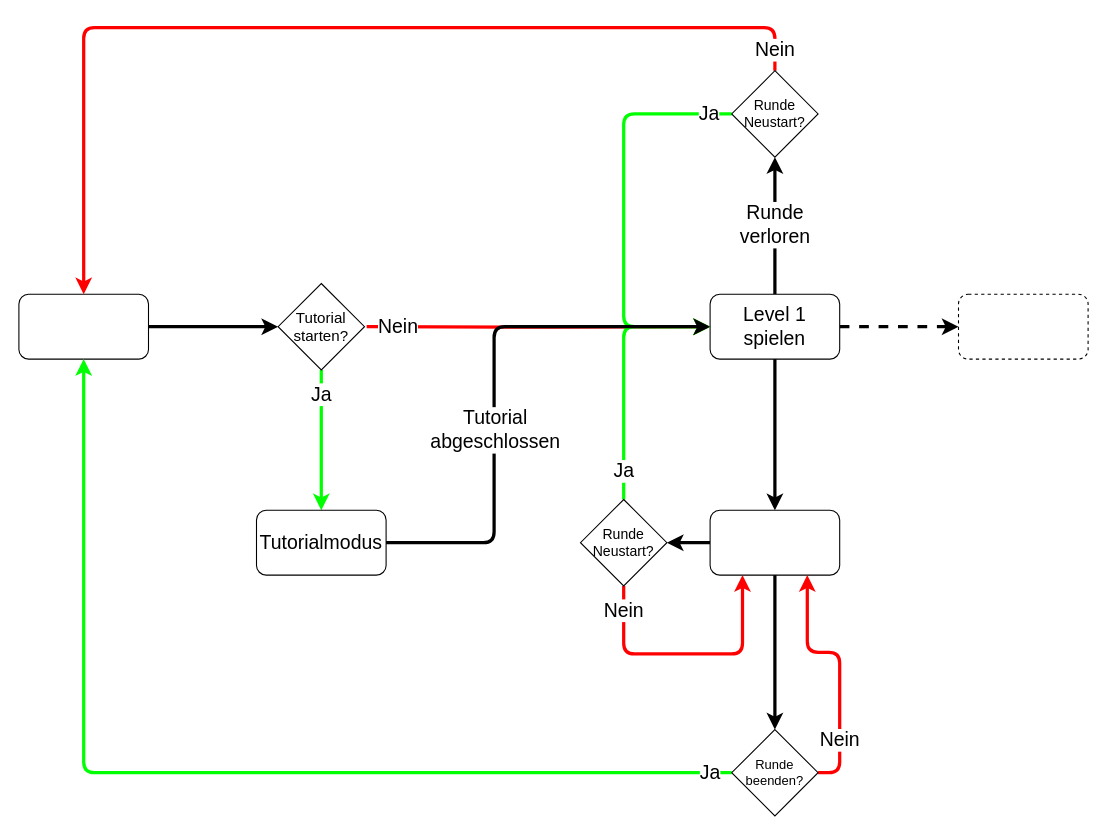
This 1107x835 diagram has some shape labels left out. Here are the shapes that lost their labels. From the top down, the centre of each, then its label:
At point 83,326: "Spiel wird gestartet".
At point 1022,326: "Level 2 spielen".
At point 774,542: "Pausenmenü".
